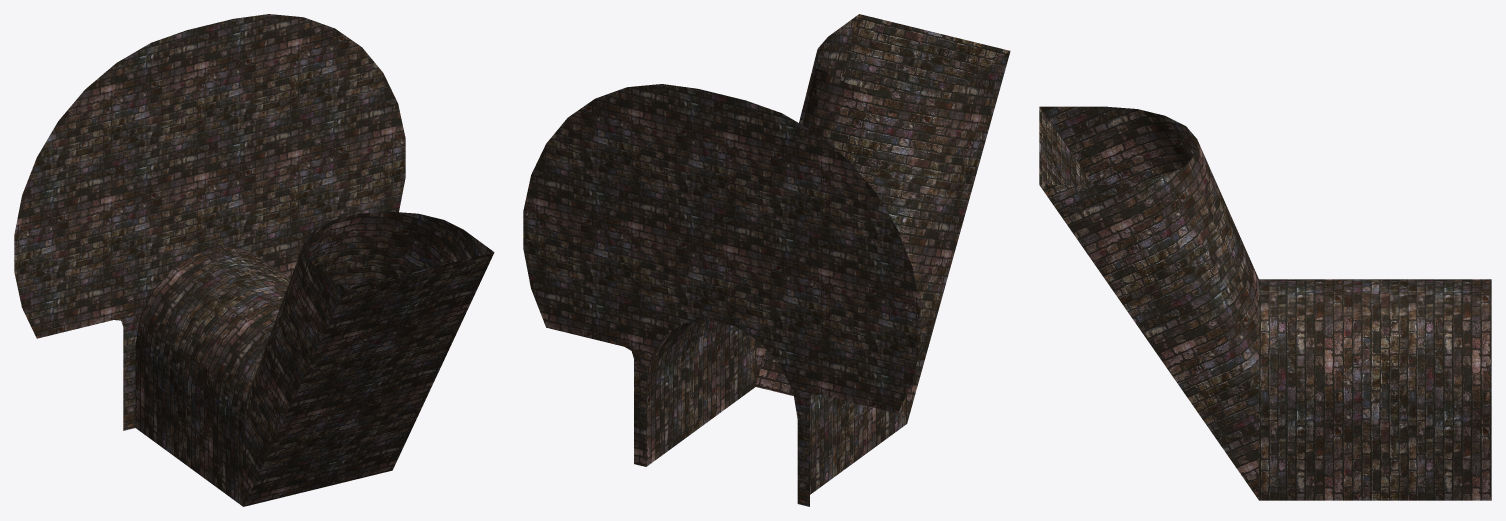
File: wall_end02.DAE
3 renders of one model, left to right at view 1: azimuth 30°, elevation 25°; view 2: azimuth 150°, elevation 25°; view 3: azimuth 270°, elevation 25°, orthographic. The views are drawn at different scales.
Parts seen in each view (by area): view 1: wall_end02; view 2: wall_end02; view 3: wall_end02.
Part boxes in pixels (<box>): wall_end02: <box>14,14,494,506</box>; wall_end02: <box>523,14,1010,506</box>; wall_end02: <box>1039,106,1491,500</box>.
Size of the model in its own units: 9.04 by 8.39 by 8.5.
